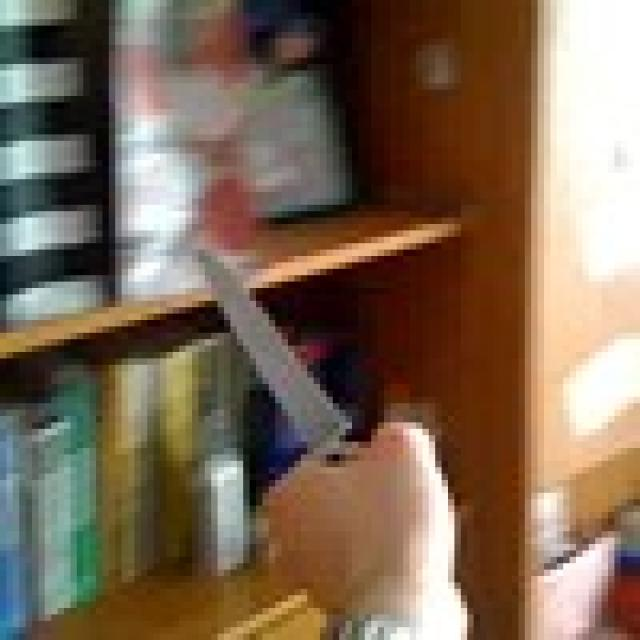faca: (160, 224, 416, 493)
